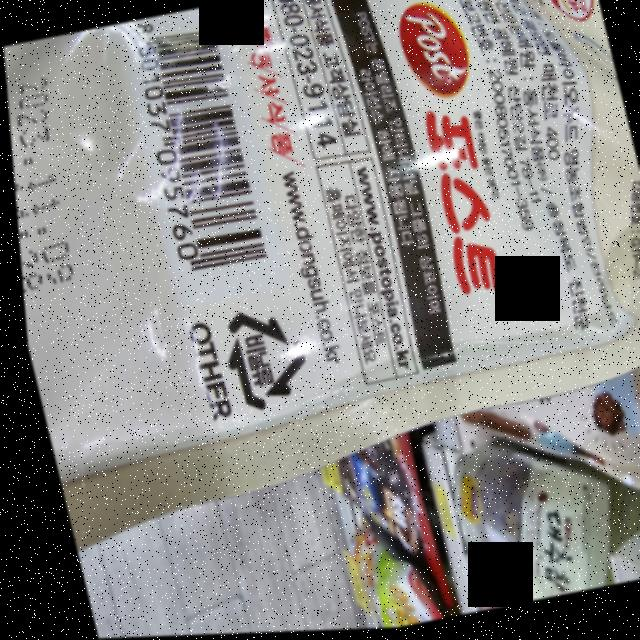Vinyl: (207, 297, 312, 419)
